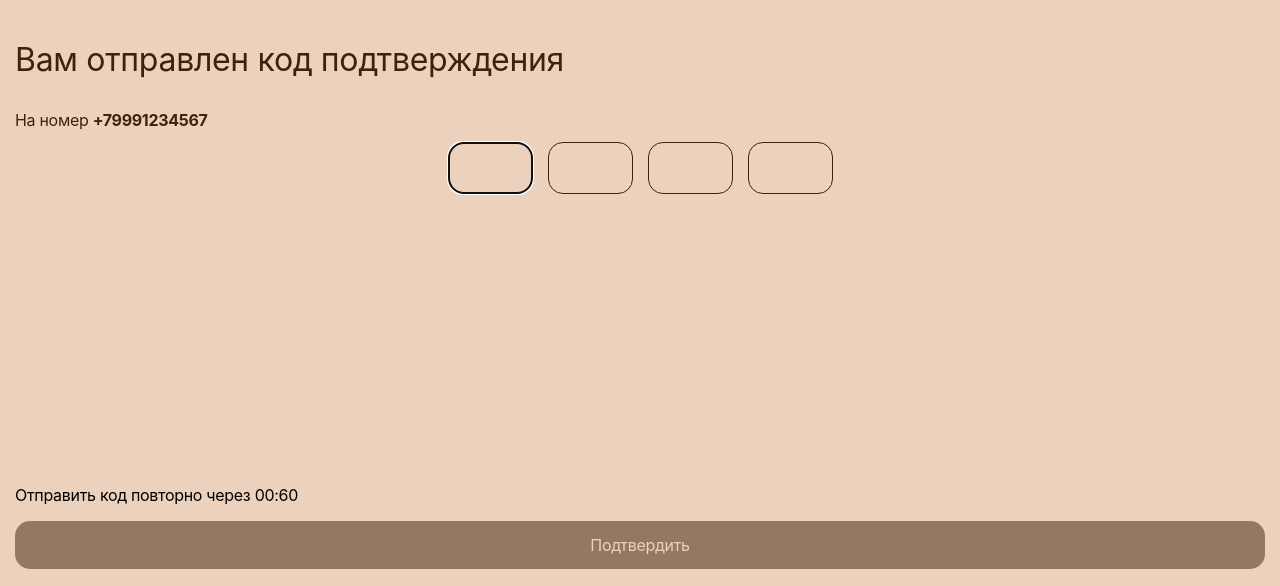
Test: PhoneCode component › Показывается ошибка при неверном коде
In the field named "Вводится 1 цифра из четырехзначного кода": x=490, y=168 448,142 -> 532,194, type "1"
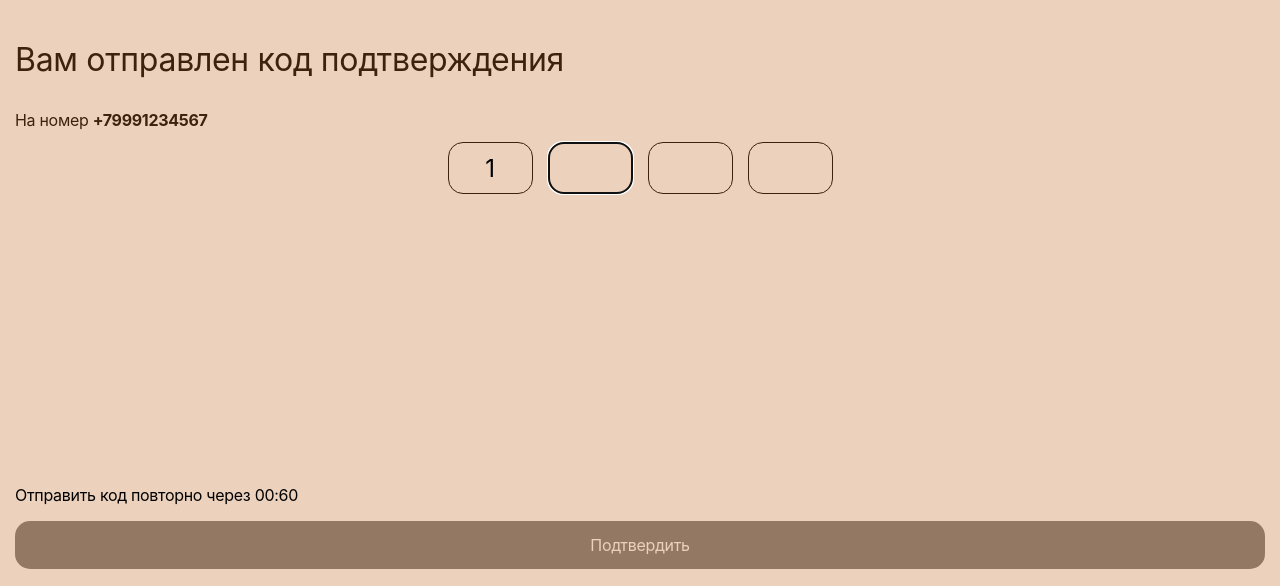
In the field named "Вводится 2 цифра из четырехзначного кода": x=590, y=168 548,142 -> 632,194, type "1"
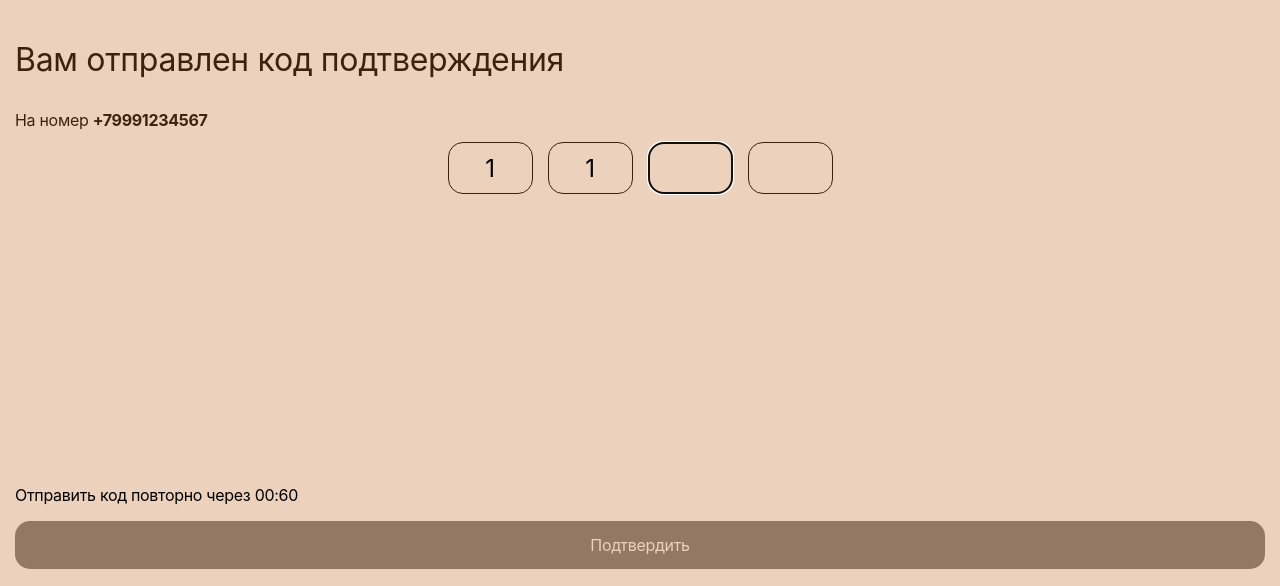
In the field named "Вводится 3 цифра из четырехзначного кода": x=690, y=168 648,142 -> 732,194, type "1"
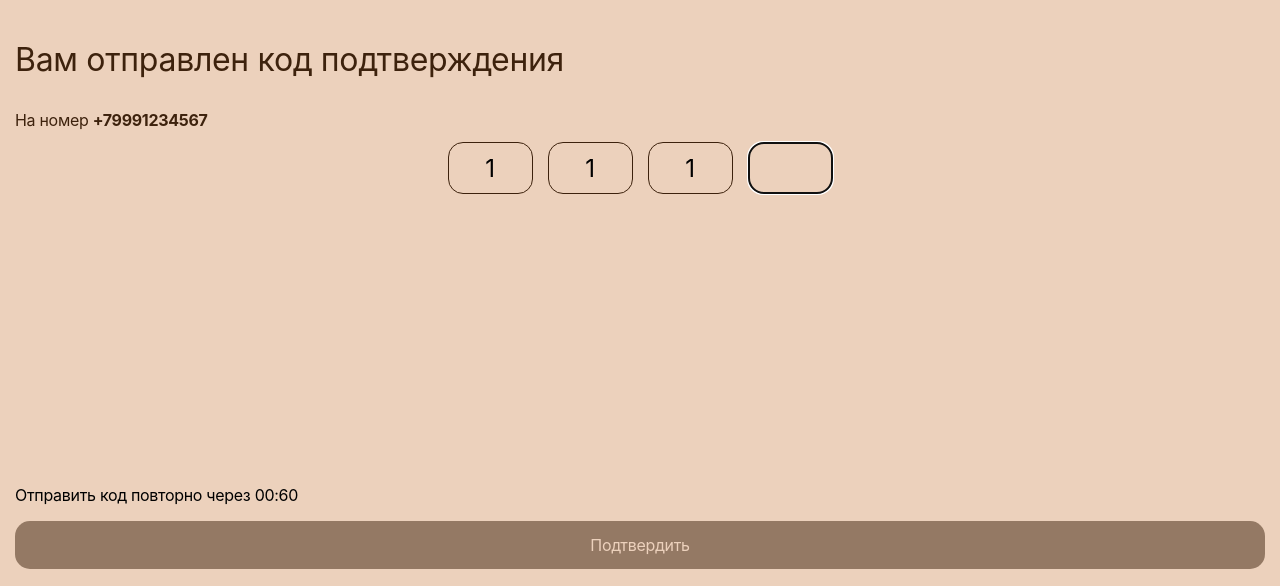
In the field named "Вводится 4 цифра из четырехзначного кода": x=790, y=168 748,142 -> 832,194, type "1"
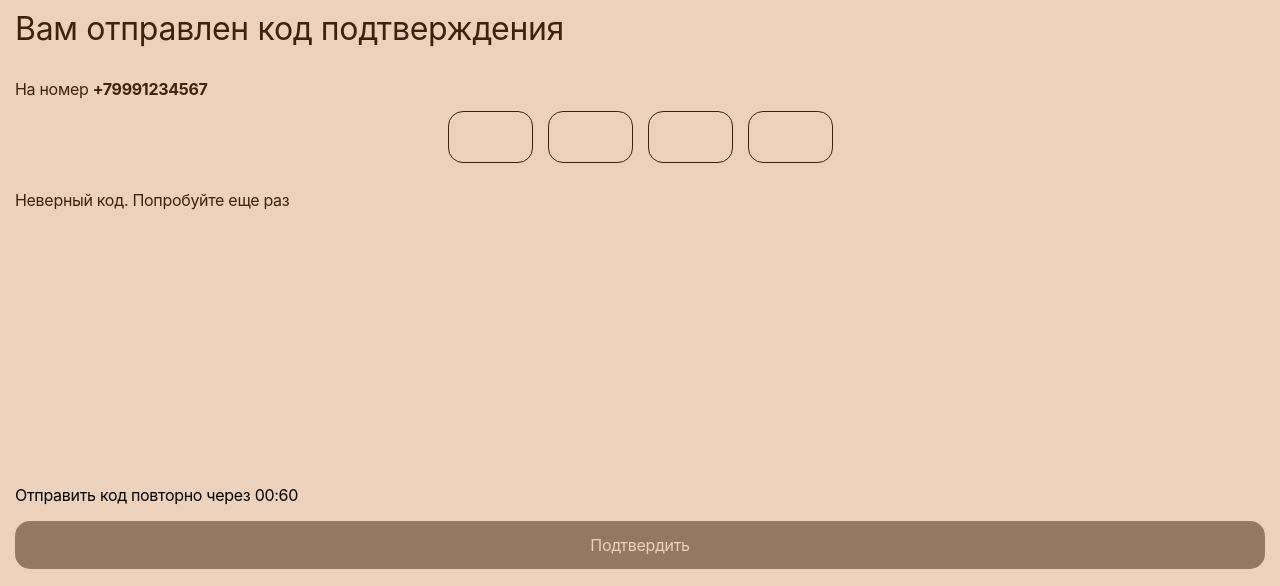
Now the text "Неверный код. Попробуйте еще раз" is shown, box 15,190 -> 289,210
Now the field named "Вводится 1 цифра из четырехзначного кода" is empty, box 448,110 -> 532,162
